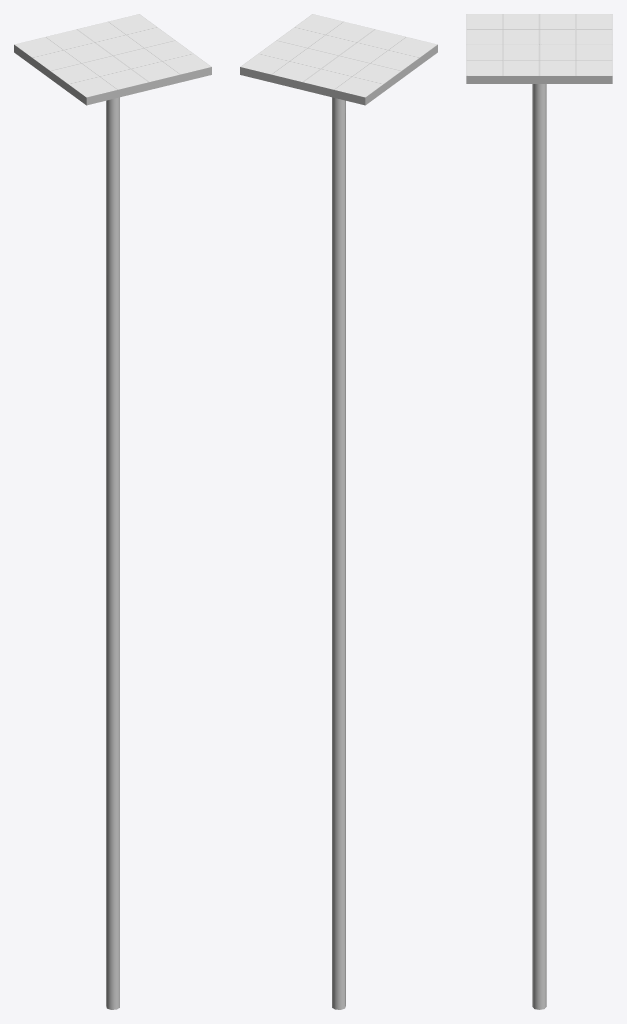
Rendered from platform.fbx.
3 renders of one model, left to right at view 1: azimuth 30°, elevation 25°; view 2: azimuth 150°, elevation 25°; view 3: azimuth 270°, elevation 25°, orthographic.
Parts seen in each view (by area): view 1: Plane; view 2: Plane; view 3: Plane.
Part boxes in pixels (x1,y1,x2,y2): Plane: [14, 14, 211, 1009]; Plane: [240, 14, 437, 1009]; Plane: [466, 14, 612, 1009].
Size of the model in its own units: 400 by 2902 by 400.
